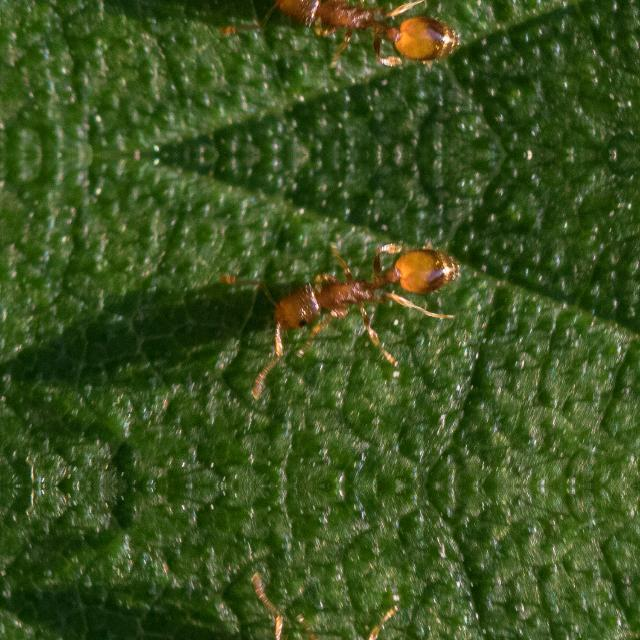Temnothorax: (232, 234, 494, 368), (232, 0, 494, 74), (232, 600, 494, 640)
